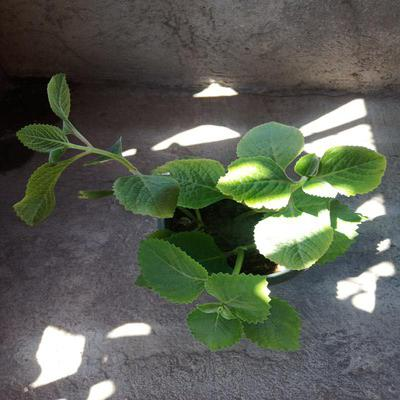Oregano: (106, 125, 377, 333)
